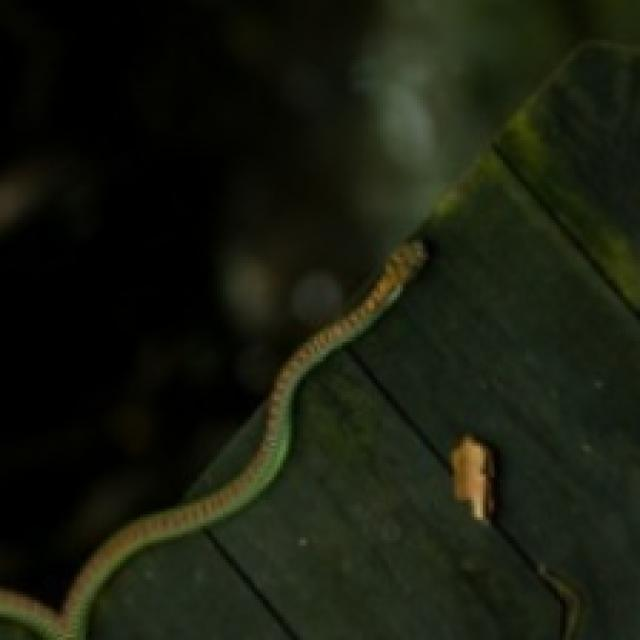paradise tree snake: (0, 240, 426, 637)
